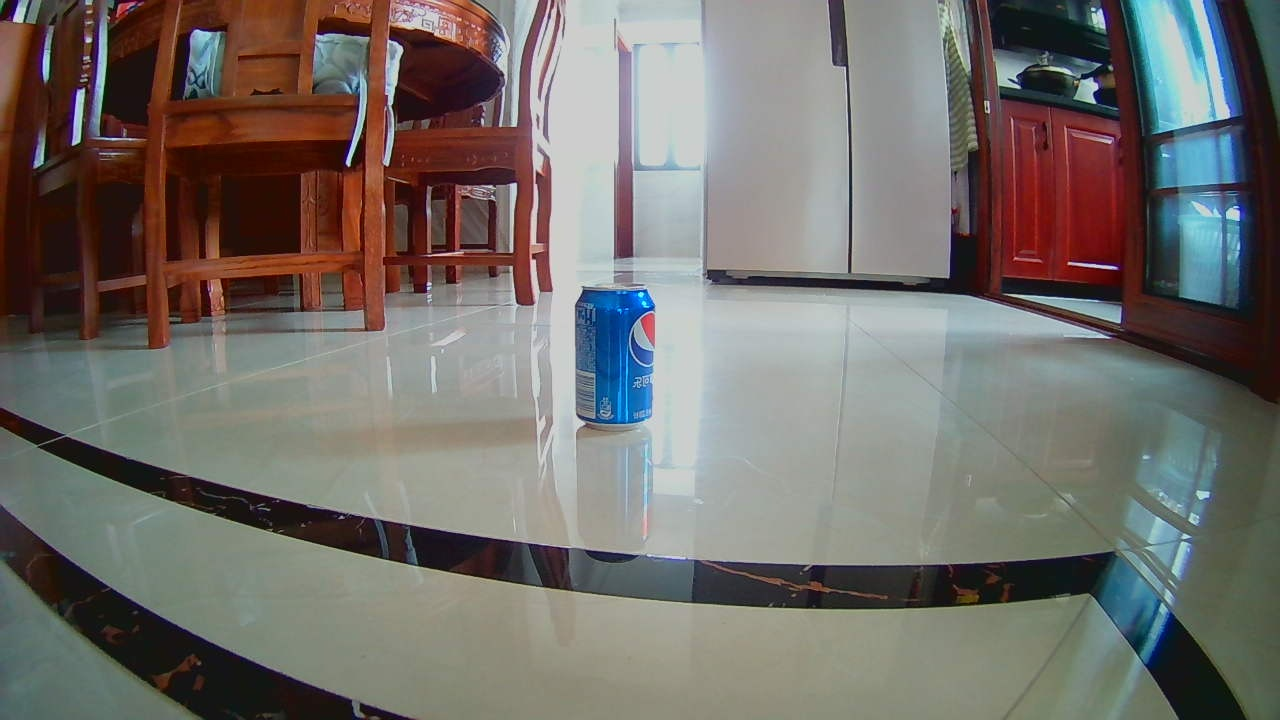pessi: (575, 281, 653, 433)
